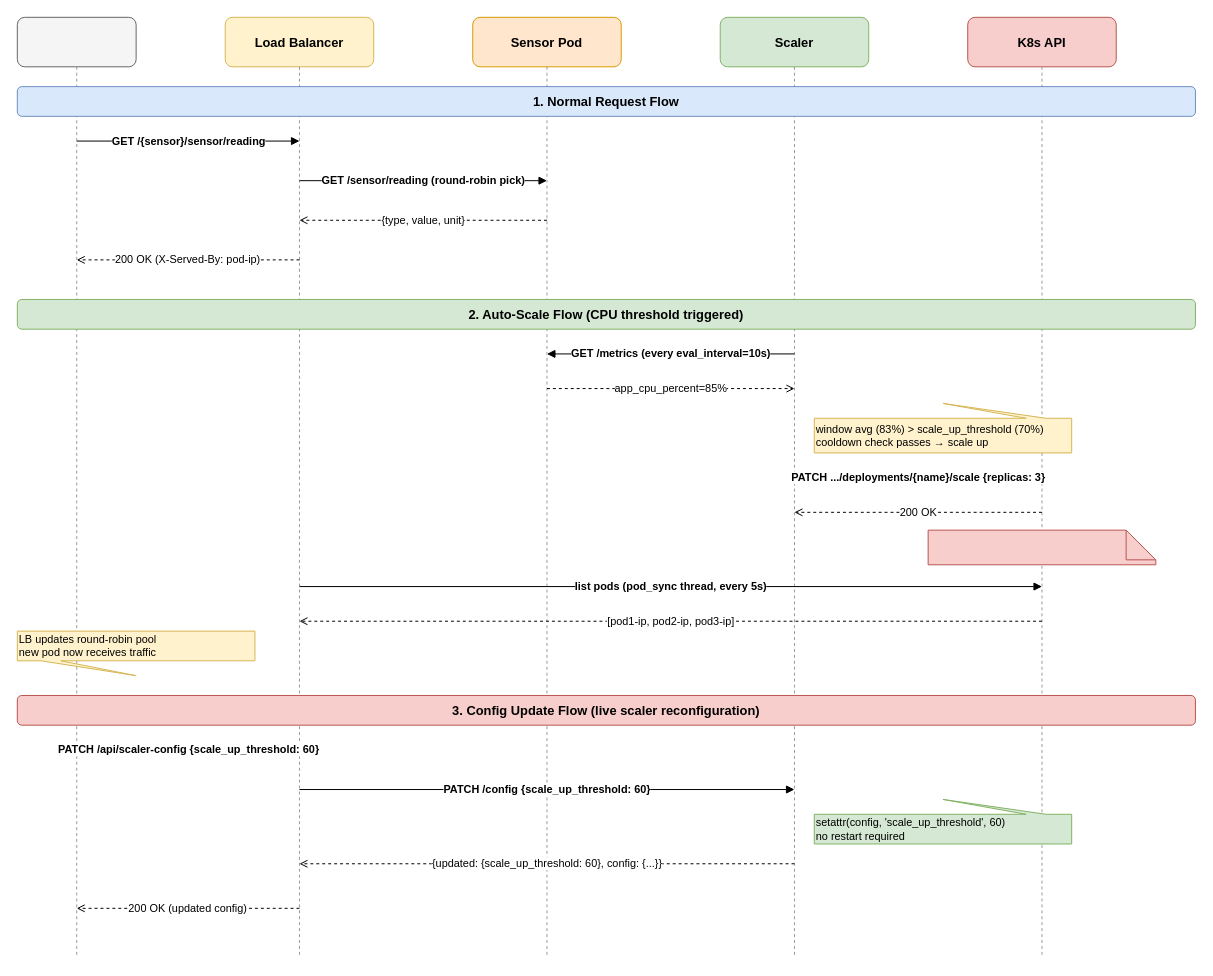
The diagram is 1213 pixels wide and 976 high, and some of its shapes have lost their labels. The shapes that lost their labels are listed below. From the top down, each one's centre as x and y in pixels, then its label:
At (x=76, y=41): "Browser".
At (x=1041, y=547): "K8s schedules and starts new pod".
